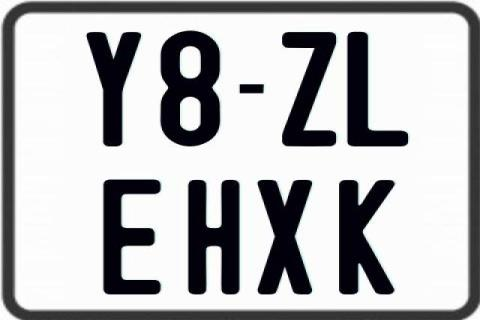0: (160, 30, 225, 148)
E: (104, 178, 166, 296)
H: (187, 178, 242, 296)
K: (336, 179, 395, 295)
L: (344, 30, 408, 146)
X: (257, 179, 316, 295)
Y: (85, 30, 141, 148)
Z: (280, 31, 340, 151)
